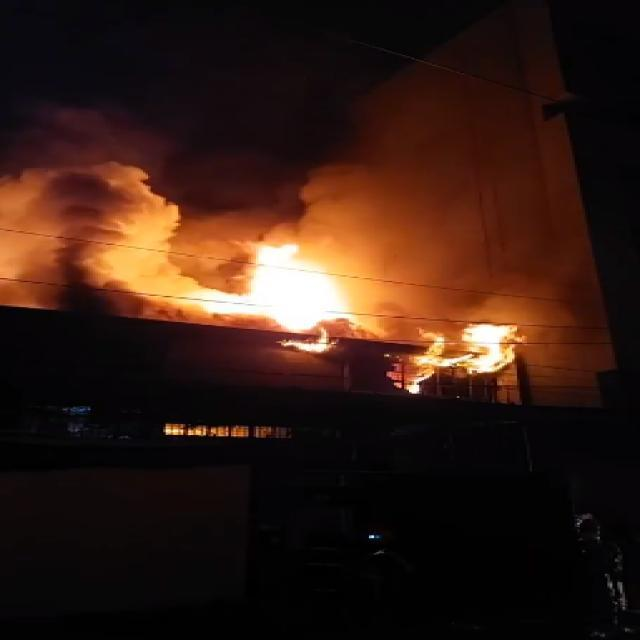Fire: (200, 239, 354, 336), (398, 320, 534, 389)
Smoke: (0, 102, 443, 333)
